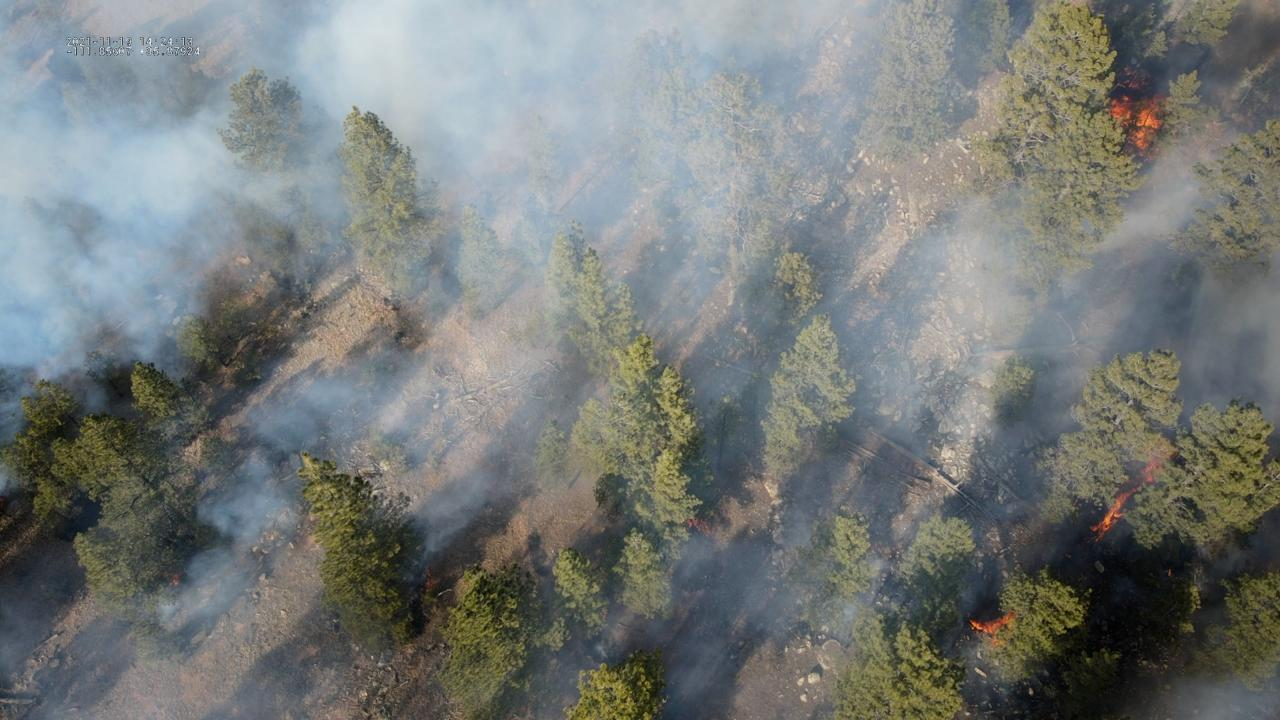fire: (1091, 450, 1166, 540), (1103, 93, 1170, 161), (966, 607, 1018, 649), (685, 518, 713, 538), (1127, 81, 1138, 90)
smoke: (0, 0, 1280, 720), (1168, 674, 1280, 720)
